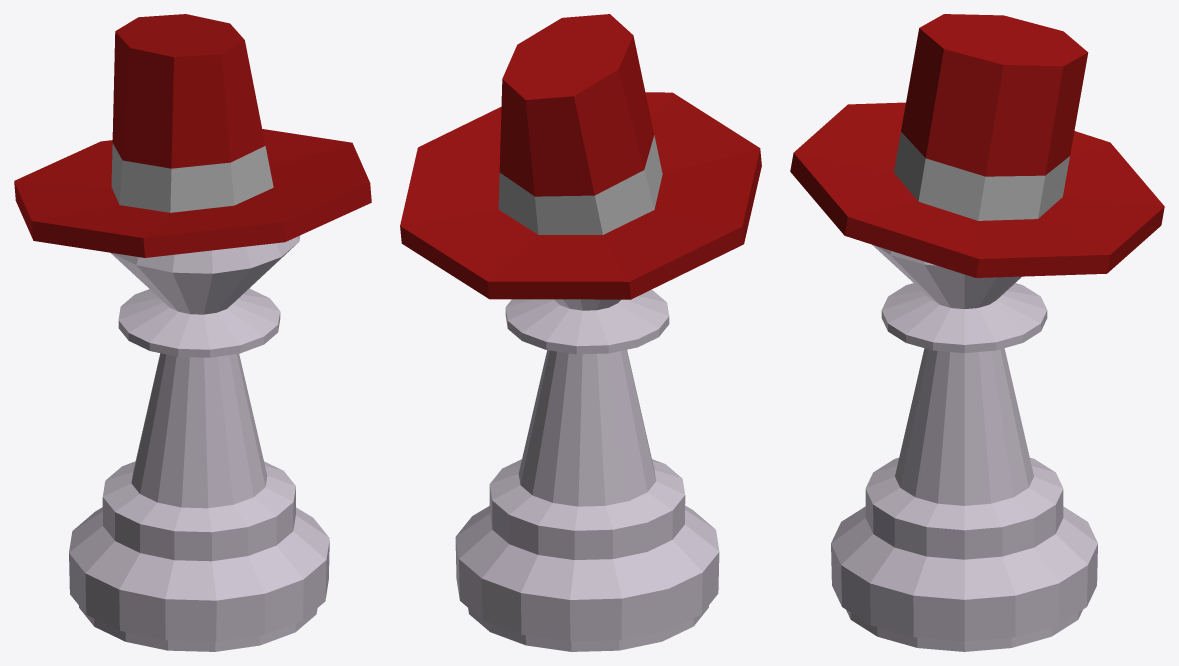
The model's file is pion1.obj.
The picture shows the model from 3 angles, left to right: view 1: azimuth 30°, elevation 25°; view 2: azimuth 150°, elevation 25°; view 3: azimuth 270°, elevation 25°; orthographic projection.
Parts seen in each view (by area): view 1: Cylinder; view 2: Cylinder; view 3: Cylinder.
Boxes of the visible parts, bbox=[...] form: Cylinder: bbox=[14, 14, 371, 651]; Cylinder: bbox=[400, 14, 761, 651]; Cylinder: bbox=[790, 14, 1164, 651].
Bounding box in the file's own units: 1.53 × 2.56 × 1.52.
